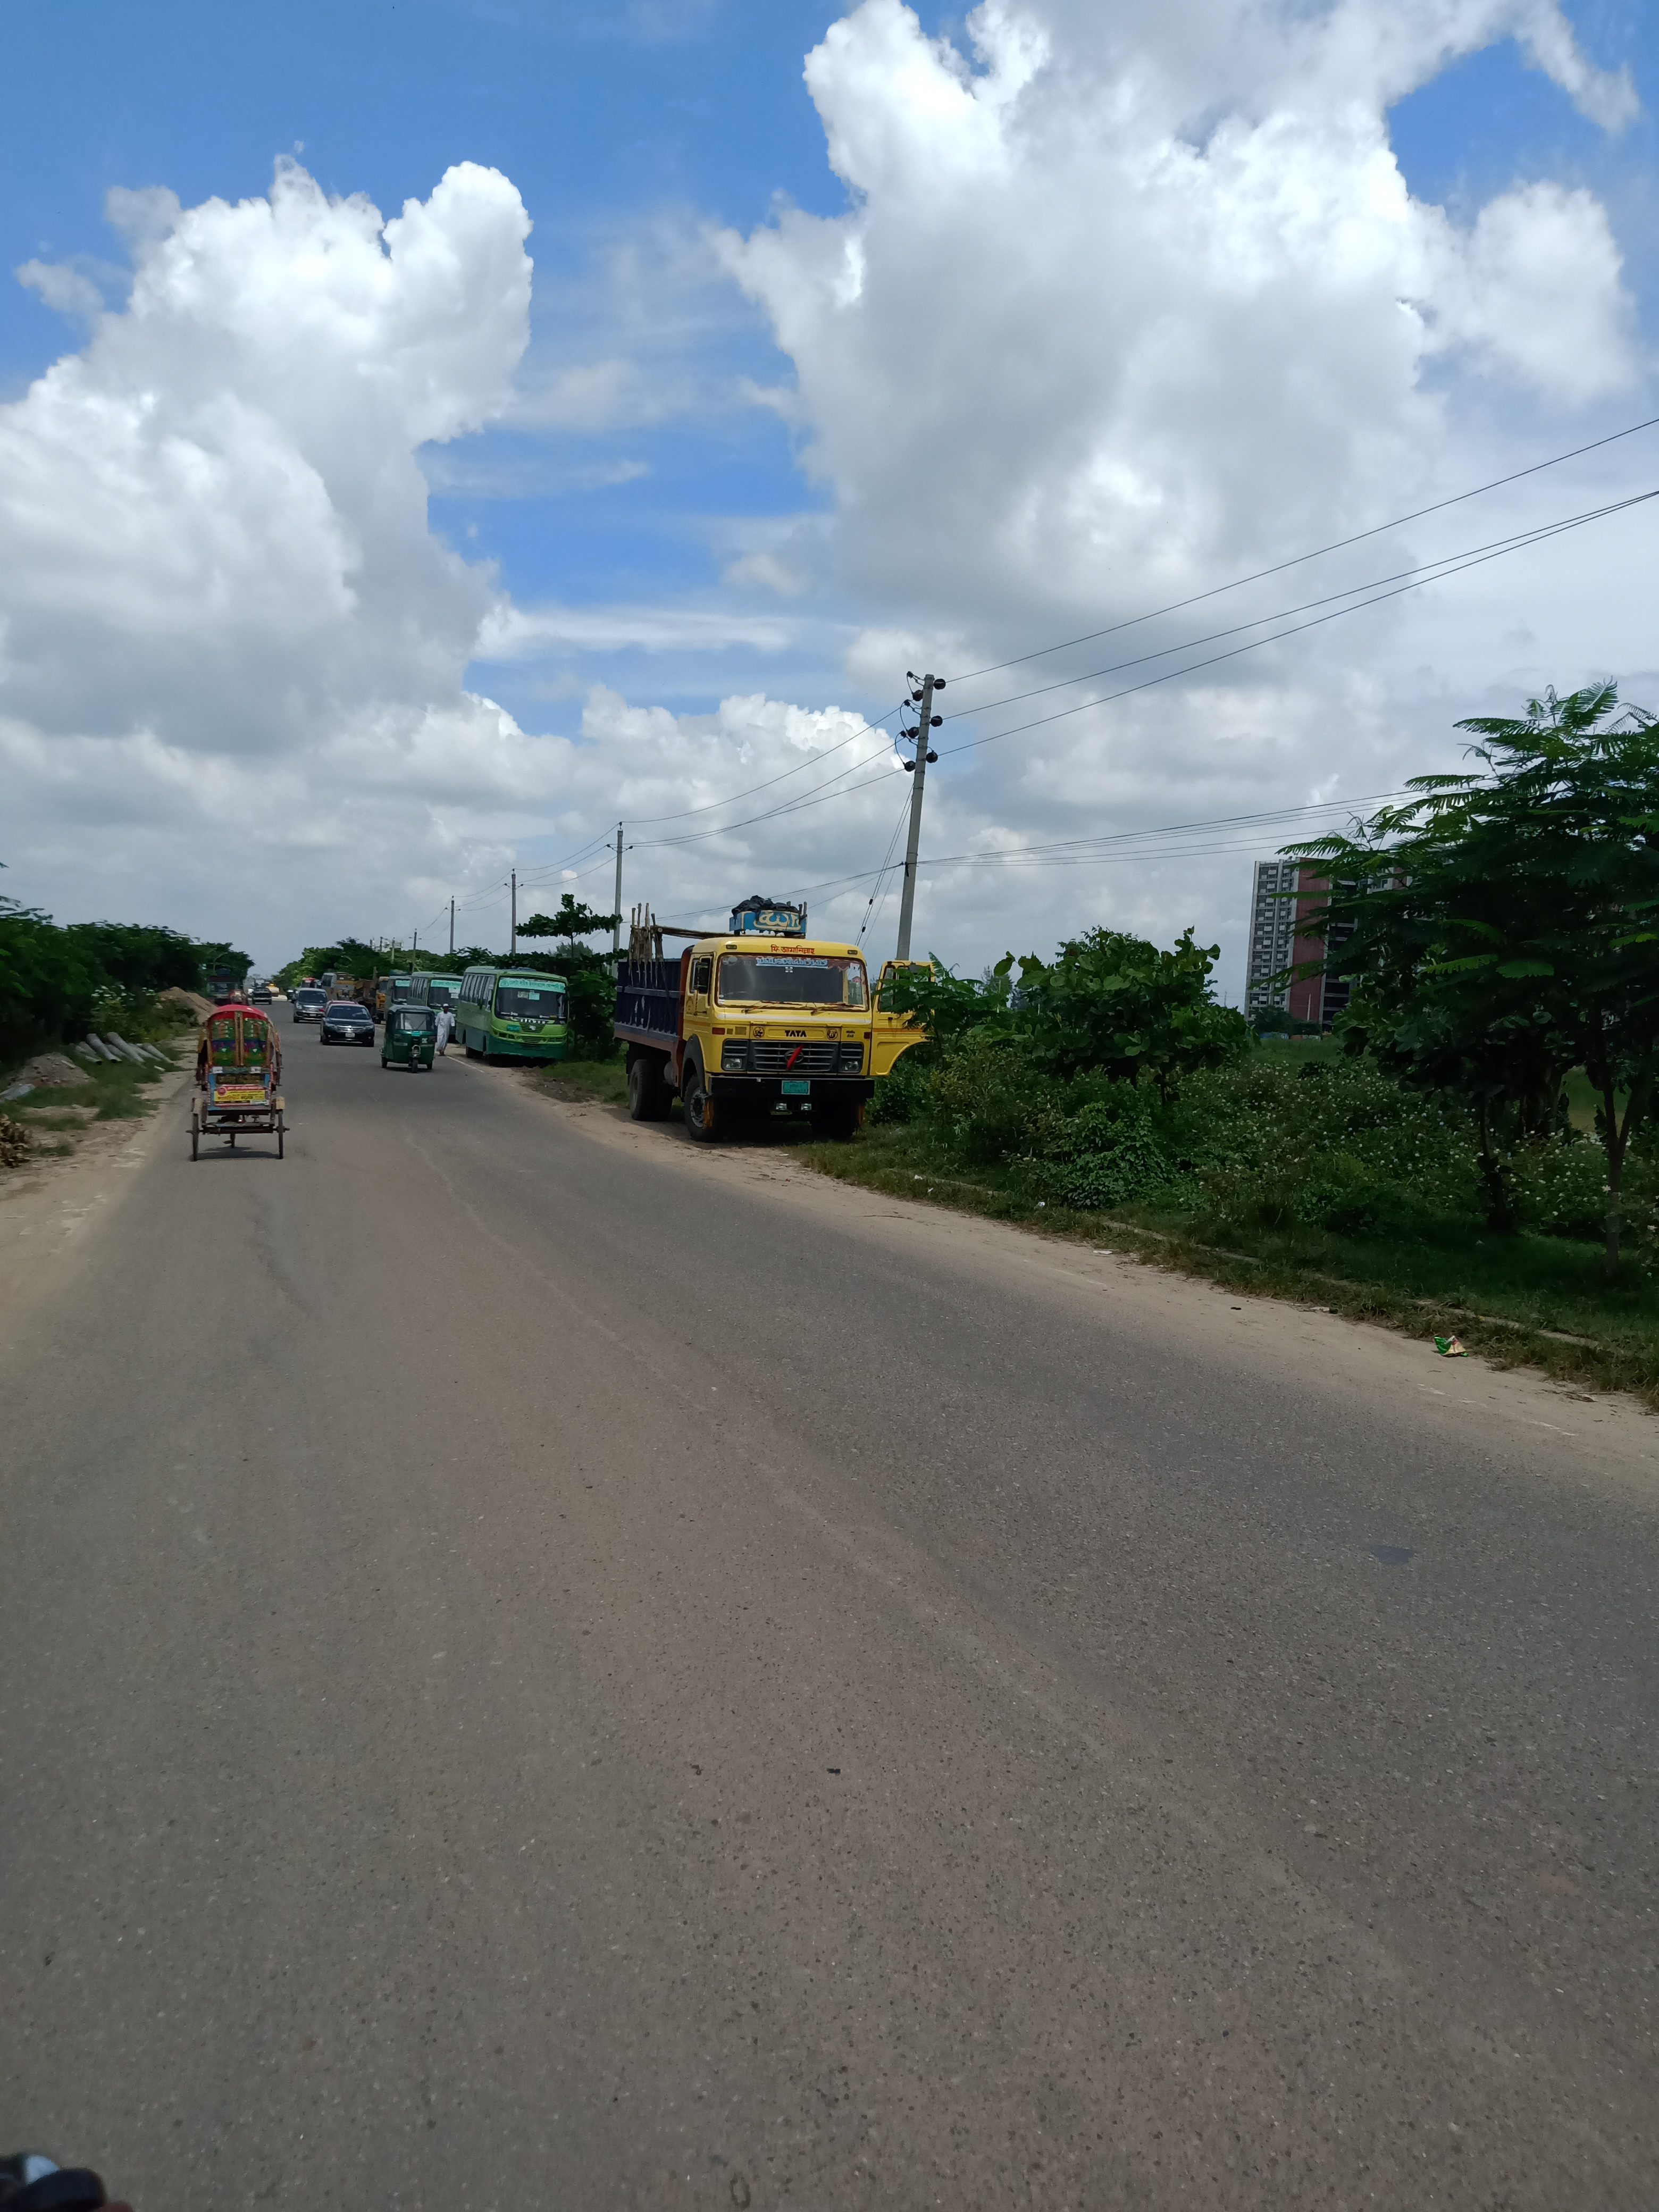bus: (453, 970, 570, 1069)
car: (326, 998, 375, 1047)
cng: (375, 1005, 443, 1080)
rickshaw: (195, 1001, 295, 1158)
truck: (606, 902, 894, 1150)
